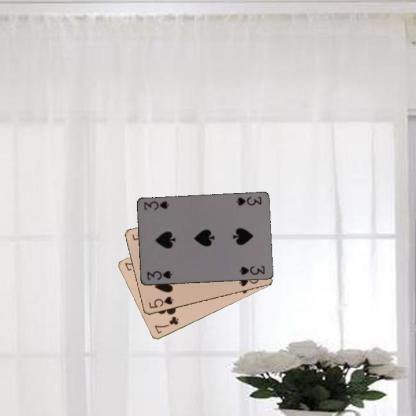3s: (144, 268, 174, 281), (233, 194, 262, 207)
5s: (146, 294, 174, 310)
7c: (152, 314, 180, 335)
